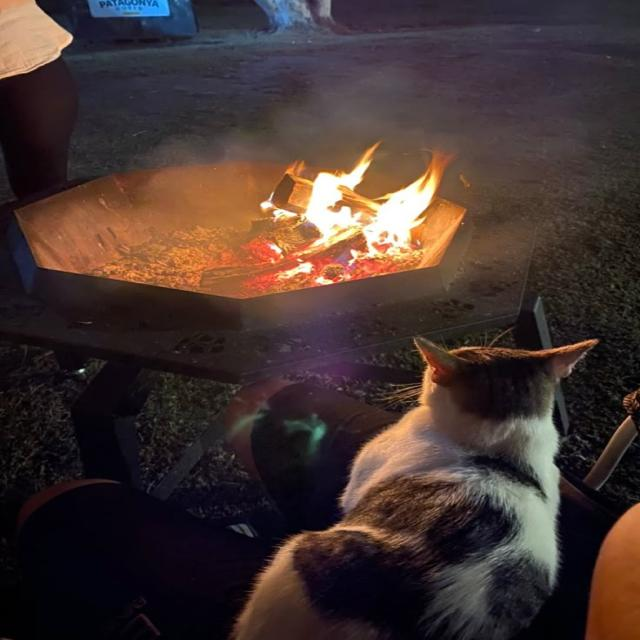fire: (305, 142, 370, 241), (372, 169, 435, 247)
